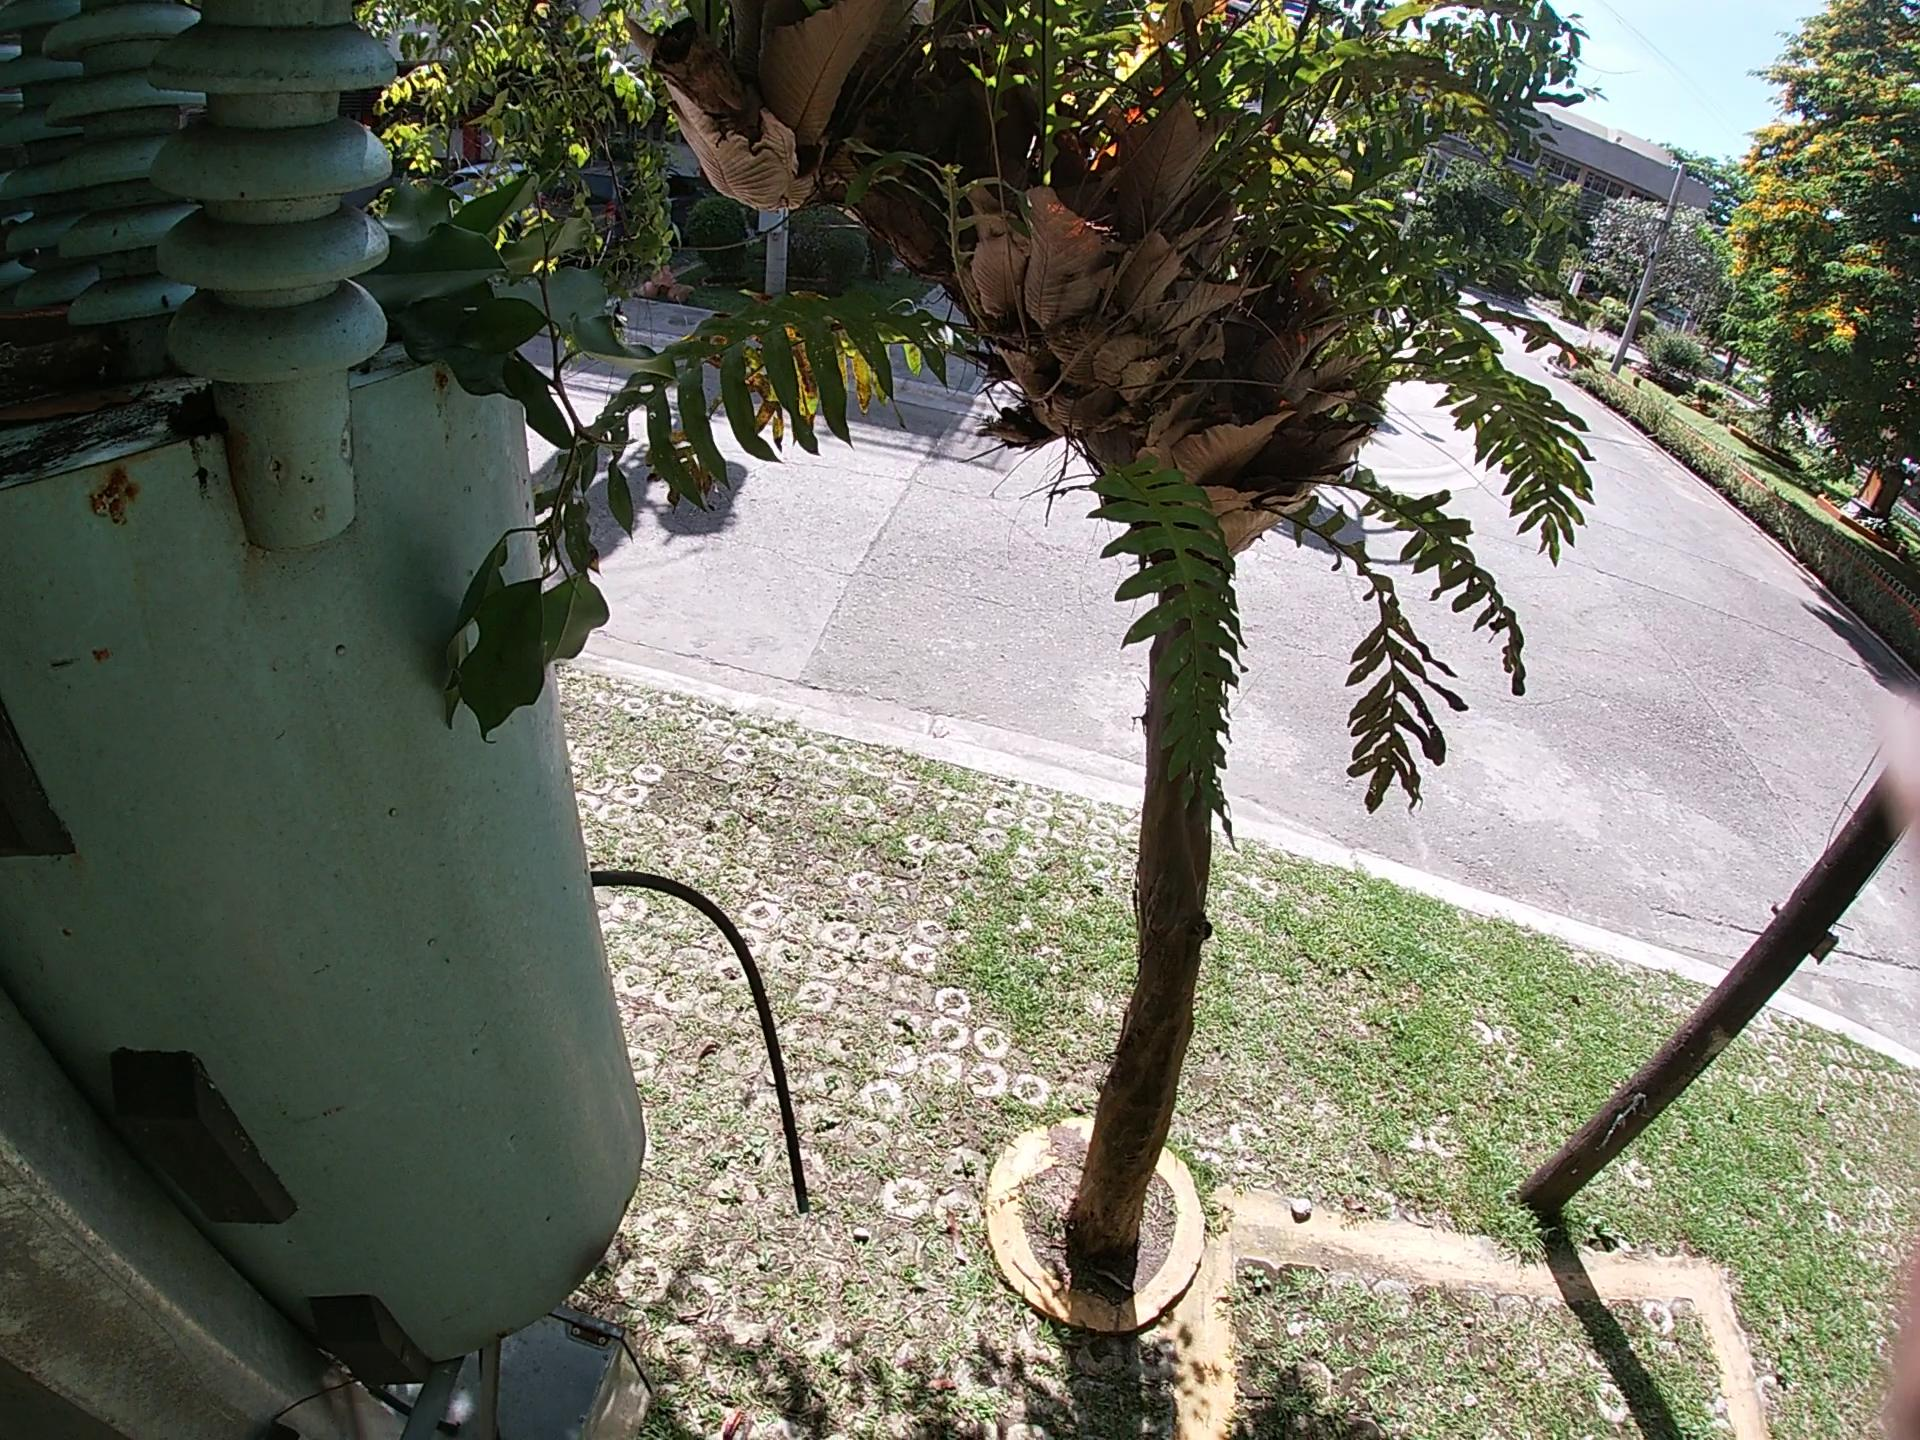branch with leaves: (370, 171, 612, 768)
leaf: (3, 380, 130, 405)
mahogany fruit: (8, 265, 95, 327)
tree branch: (2, 330, 141, 362)
